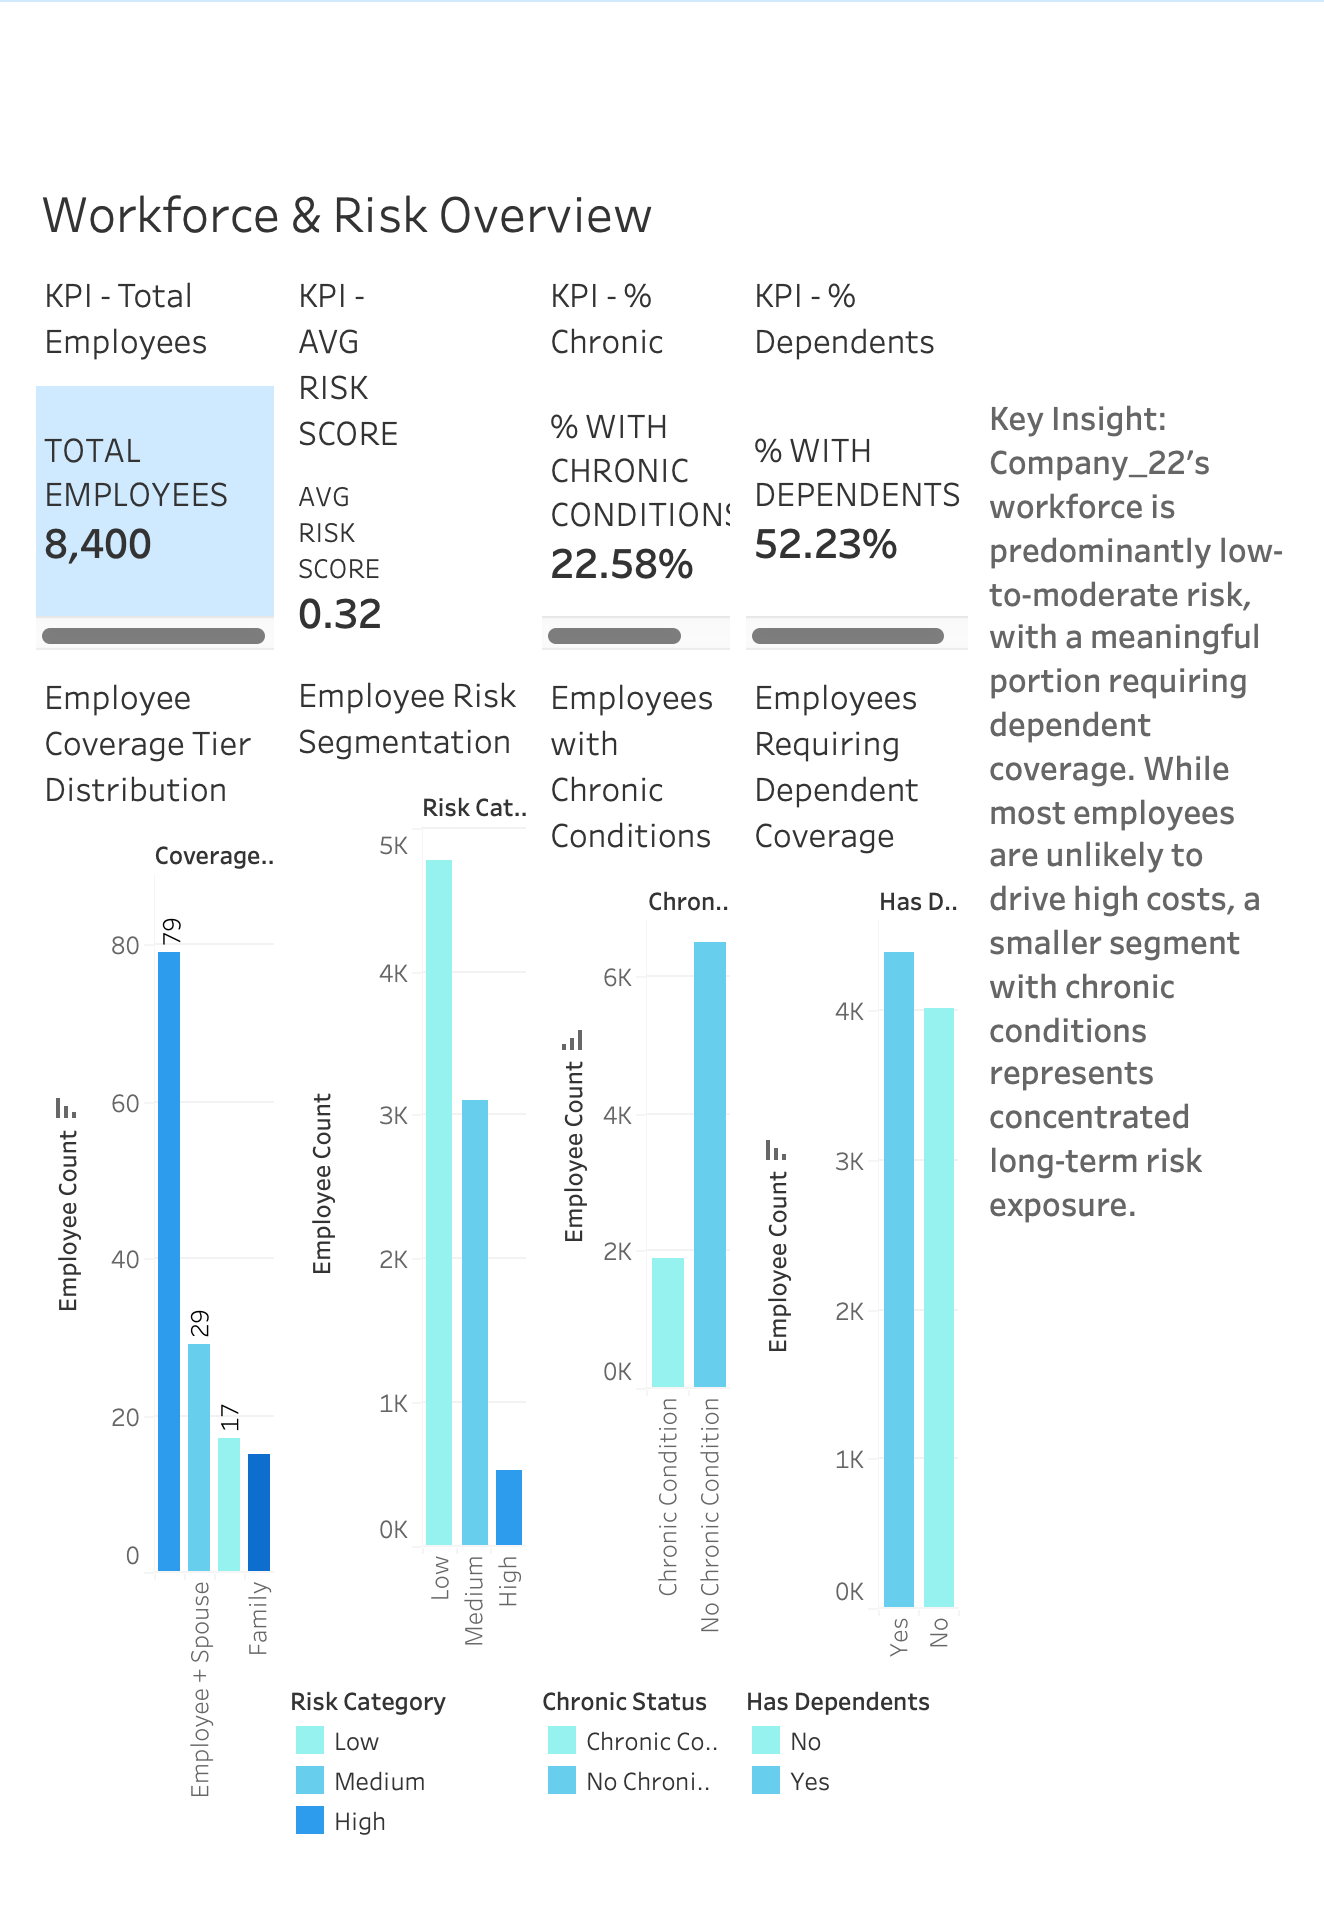

What the dashboard file says about the page in this screenshot:
{"tool":"tableau","page":{"name":"Workforce & Risk Overview","canvas":[650,860],"ordinal":1},"visuals":[{"type":"worksheet","title":"KPI - Total Employees","mark":"Automatic","box":[8,8.1,127,211.4]},{"type":"worksheet","title":"KPI - AVG RISK SCORE","mark":"Automatic","box":[135,8.1,110,210.9]},{"type":"worksheet","title":"KPI - % Chronic","mark":"Automatic","box":[245,8.1,118.5,211.4]},{"type":"worksheet","title":"KPI - % Dependents","mark":"Automatic","box":[363.5,8.1,118.5,211.4]},{"type":"text","box":[482,8.1,160,567.2]},{"type":"worksheet","title":"Employee Risk Segmentation","mark":"Automatic","rows":["employee_id"],"cols":["risk_category"],"box":[135,219,110,535.7]},{"type":"worksheet","title":"Employee Coverage Tier Distribution ","mark":"Automatic","rows":["employee_id"],"cols":["coverage_tier"],"box":[8,219.5,127,632.3]},{"type":"worksheet","title":"Employees with Chronic Conditions","mark":"Automatic","rows":["employee_id"],"cols":["Calculation_2501397805281153024"],"box":[245,219.5,118.5,535.2]},{"type":"worksheet","title":"Employees Requiring Dependent Coverage","mark":"Automatic","rows":["employee_id"],"cols":["has_dependents"],"box":[363.5,219.5,118.5,535.2]},{"type":"legend","title":"Employee Risk Segmentation","param":"[federated.06y5mf608x1z9o1gfkzvk0cerg9k].[none:risk_category:nk]","box":[135,754.7,110,97.2]},{"type":"legend","title":"Employees with Chronic Conditions","param":"[federated.06y5mf608x1z9o1gfkzvk0cerg9k].[none:Calculation_2501397805281153024:n","box":[245,754.7,118.5,97.2]},{"type":"legend","title":"Employees Requiring Dependent Coverage","param":"[federated.06y5mf608x1z9o1gfkzvk0cerg9k].[none:has_dependents:nk]","box":[363.5,754.7,118.5,97.1]}]}

Visuals, with their boxes on the page's 650x860 design canvas (x1, y1, x2, y2). These are canvas units, not pixel positions in the 1324x1916 screenshot, which may show the page scaled, cropped or inside an application window:
"KPI - Total Employees" worksheet: select_region(8, 8, 135, 220)
"KPI - AVG RISK SCORE" worksheet: select_region(135, 8, 245, 219)
"KPI - % Chronic" worksheet: select_region(245, 8, 364, 220)
"KPI - % Dependents" worksheet: select_region(364, 8, 482, 220)
text: select_region(482, 8, 642, 575)
"Employee Risk Segmentation" worksheet: select_region(135, 219, 245, 755)
"Employee Coverage Tier Distribution " worksheet: select_region(8, 220, 135, 852)
"Employees with Chronic Conditions" worksheet: select_region(245, 220, 364, 755)
"Employees Requiring Dependent Coverage" worksheet: select_region(364, 220, 482, 755)
"Employee Risk Segmentation" legend: select_region(135, 755, 245, 852)
"Employees with Chronic Conditions" legend: select_region(245, 755, 364, 852)
"Employees Requiring Dependent Coverage" legend: select_region(364, 755, 482, 852)
